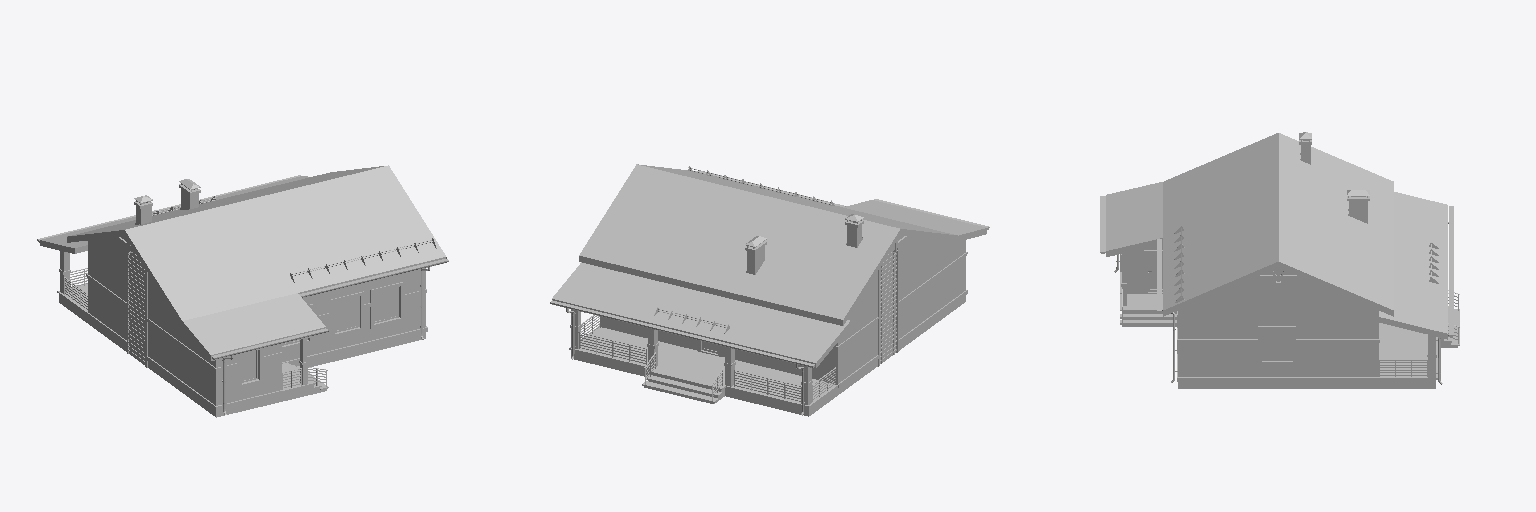
The model's file is house4.obj.
The picture shows the model from 3 angles: view 1: azimuth 30°, elevation 25°; view 2: azimuth 150°, elevation 25°; view 3: azimuth 270°, elevation 25°; orthographic projection.
Parts seen in each view (by area): view 1: Cottage_Free; view 2: Cottage_Free; view 3: Cottage_Free.
Boxes of the visible parts, box(x1,y1,x2,y2) form: Cottage_Free: box(37, 165, 448, 417); Cottage_Free: box(550, 164, 989, 416); Cottage_Free: box(1100, 132, 1459, 388).
Bounding box in the file's own units: 12.44 × 6.75 × 14.65.